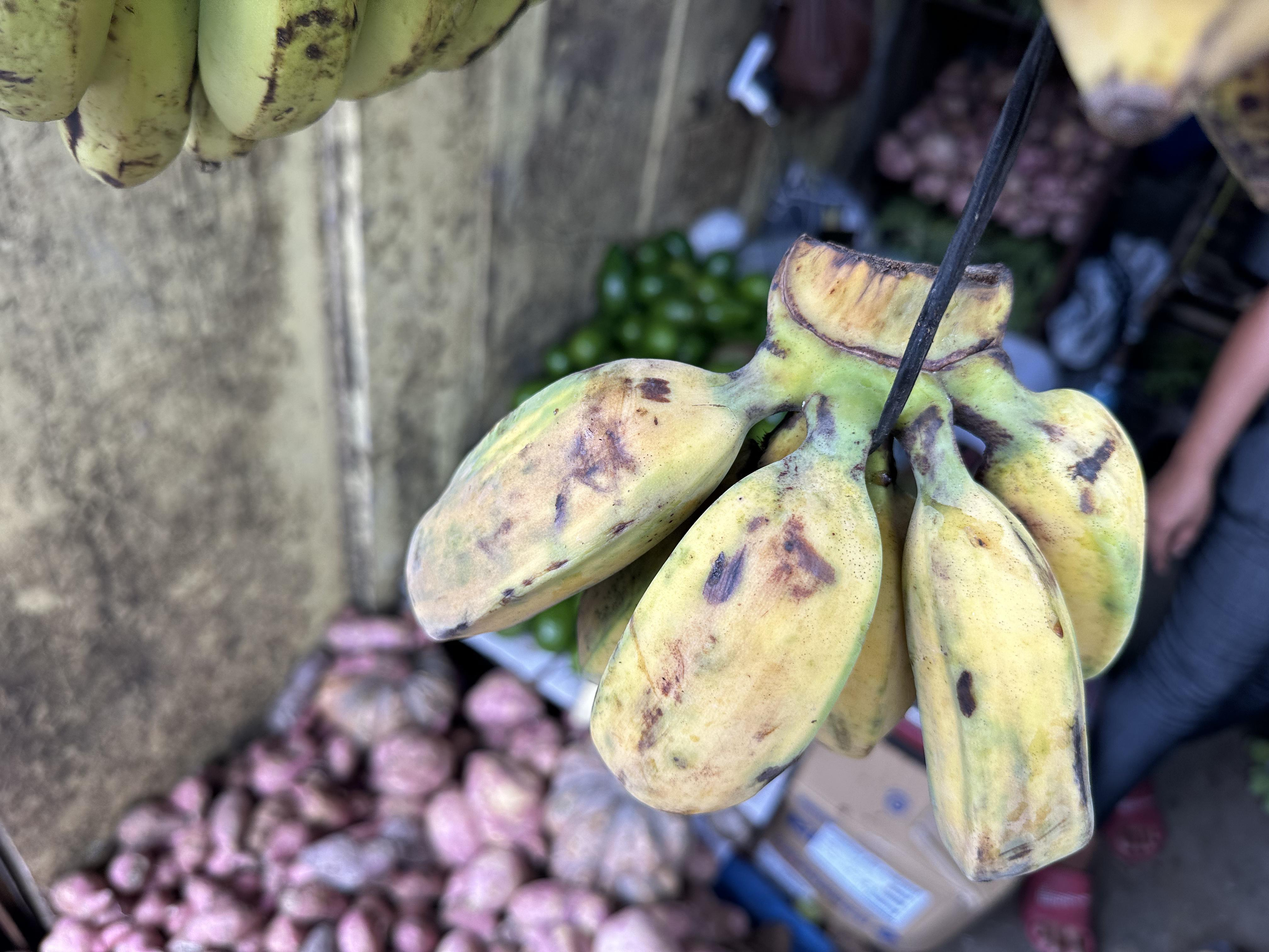underripe: (405, 360, 1145, 879)
